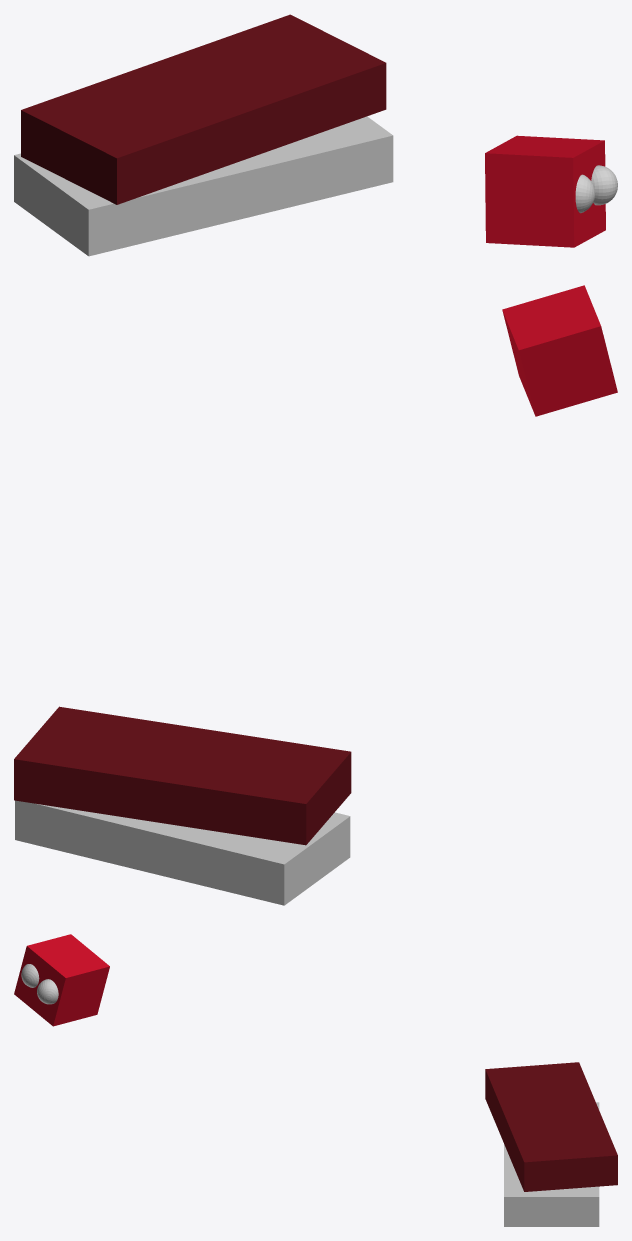
Rendered from monkey.obj.
The picture shows the model from 3 angles, top to bottom: view 1: azimuth 30°, elevation 25°; view 2: azimuth 150°, elevation 25°; view 3: azimuth 270°, elevation 25°; orthographic projection. The views are drawn at different scales.
Visible parts, largest first — view 1: Cube.002, Cube.001, Cube, Sphere, Sphere.001; view 2: Cube.002, Cube.001, Cube; view 3: Cube.002, Cube, Cube.001, Sphere.
Part boxes in pixels (x1=…): Cube.002: x1=21, y1=14, x2=386, y2=204; Cube.001: x1=14, y1=116, x2=393, y2=256; Cube: x1=485, y1=135, x2=605, y2=247; Sphere: x1=591, y1=165, x2=617, y2=205; Sphere.001: x1=575, y1=174, x2=595, y2=213; Cube.002: x1=14, y1=706, x2=351, y2=845; Cube.001: x1=15, y1=800, x2=350, y2=905; Cube: x1=502, y1=285, x2=617, y2=416; Cube.002: x1=485, y1=1062, x2=617, y2=1191; Cube: x1=14, y1=934, x2=109, y2=1026; Cube.001: x1=504, y1=1102, x2=599, y2=1226; Sphere: x1=37, y1=979, x2=58, y2=1004.
Bounding box in the file's own units: 4.98 × 5.11 × 12.69.
